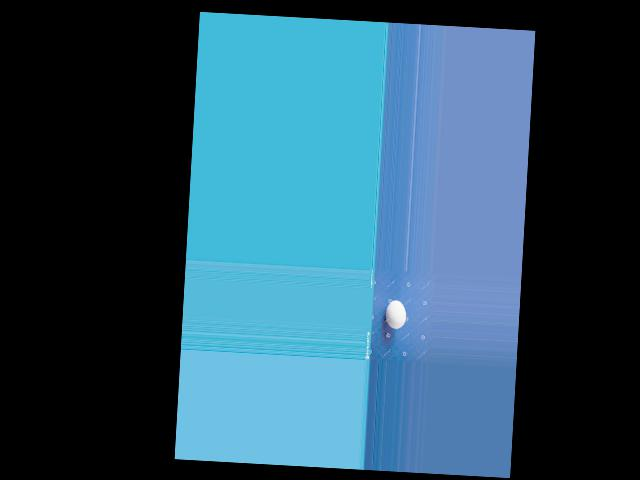egg: (384, 299, 406, 329)
